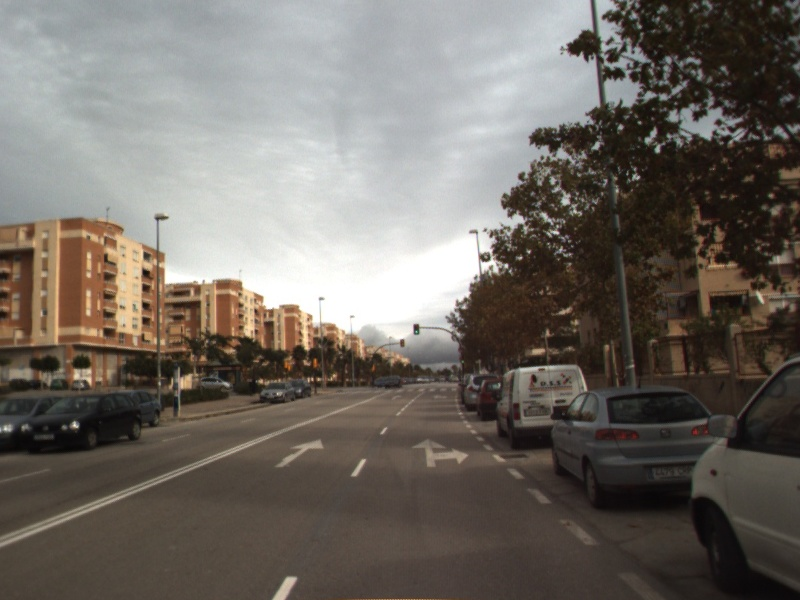STRAIGHT: (272, 436, 326, 469)
STRAIGHT_RIGHT: (410, 436, 471, 469)
